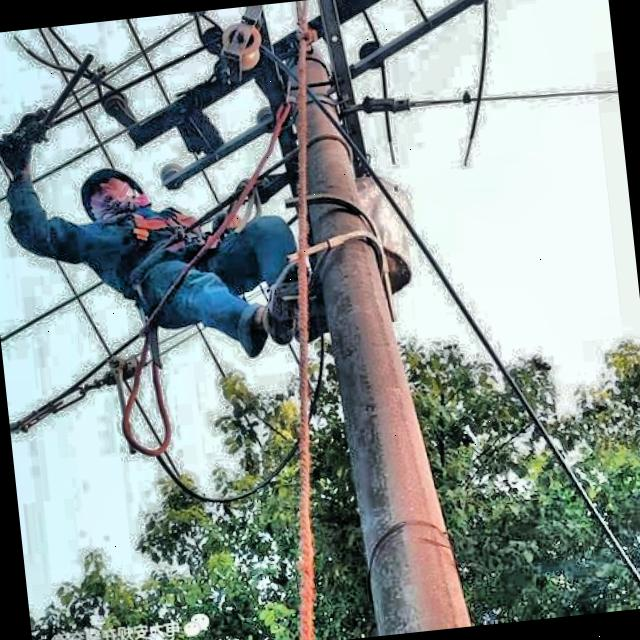helmet: (73, 159, 159, 229)
